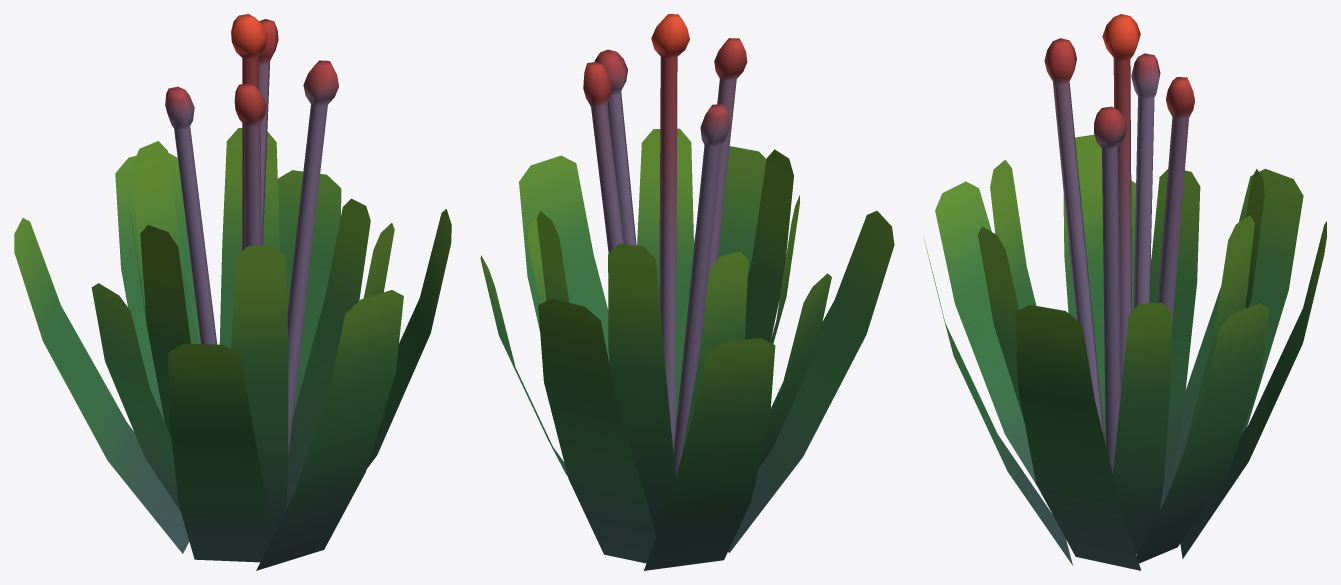
File: Flower_Decoration_04.fbx
3 views of the same model, side by side, from view 1: azimuth 30°, elevation 25°; view 2: azimuth 150°, elevation 25°; view 3: azimuth 270°, elevation 25° (orthographic).
Visible parts, largest first — view 1: Flower.027; view 2: Flower.027; view 3: Flower.027.
Boxes of the visible parts, x1,y1,x2,y2 form: Flower.027: (14, 14, 451, 570); Flower.027: (480, 14, 894, 570); Flower.027: (924, 14, 1326, 570).
Size of the model in its own units: 188 by 276 by 193.
